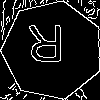R: (27, 25, 65, 71)
